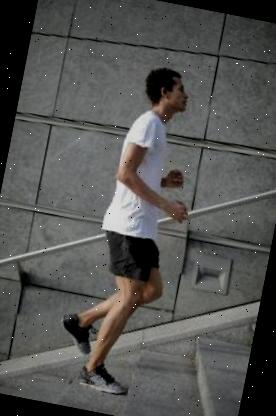person: (36, 49, 216, 416)
